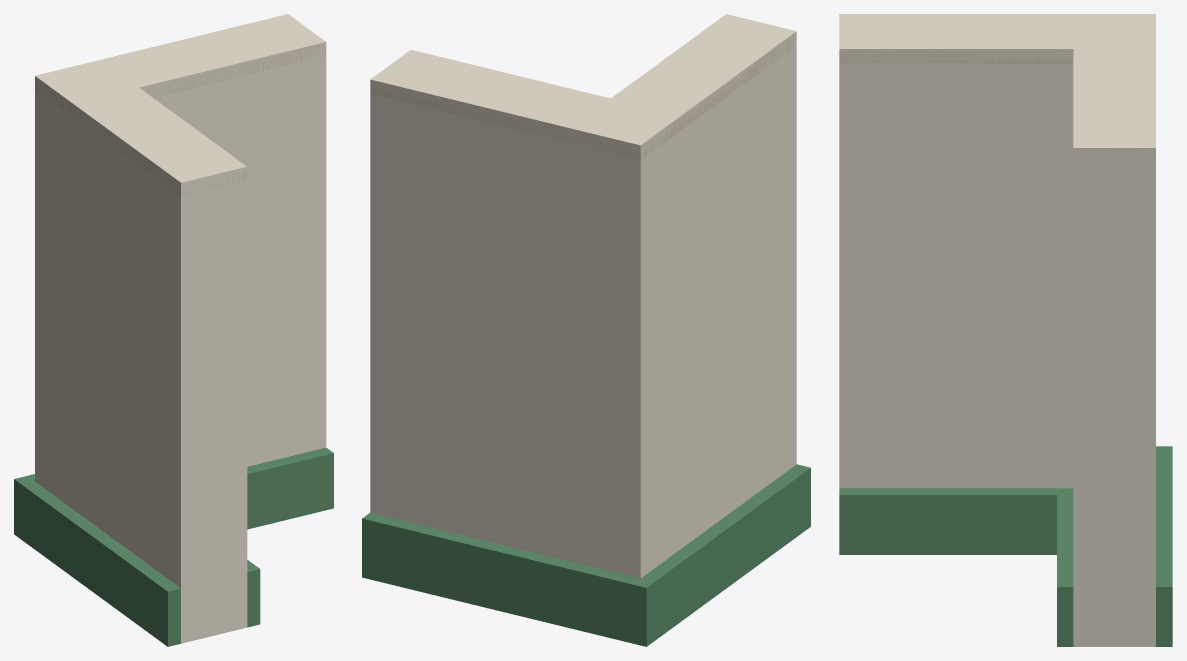
The model's file is partition-elbow.glb.
3 renders of one model, left to right at view 1: azimuth 30°, elevation 25°; view 2: azimuth 150°, elevation 25°; view 3: azimuth 270°, elevation 25°, orthographic. The views are drawn at different scales.
Visible parts, largest first — view 1: partition-elbow; view 2: partition-elbow; view 3: partition-elbow.
Boxes of the visible parts, x1,y1,x2,y2 form: partition-elbow: (14, 14, 333, 646); partition-elbow: (362, 14, 810, 646); partition-elbow: (839, 14, 1172, 646).
Size of the model in its own units: 0.605 by 1 by 0.605.
Materials: 1 (1 with a texture image).
